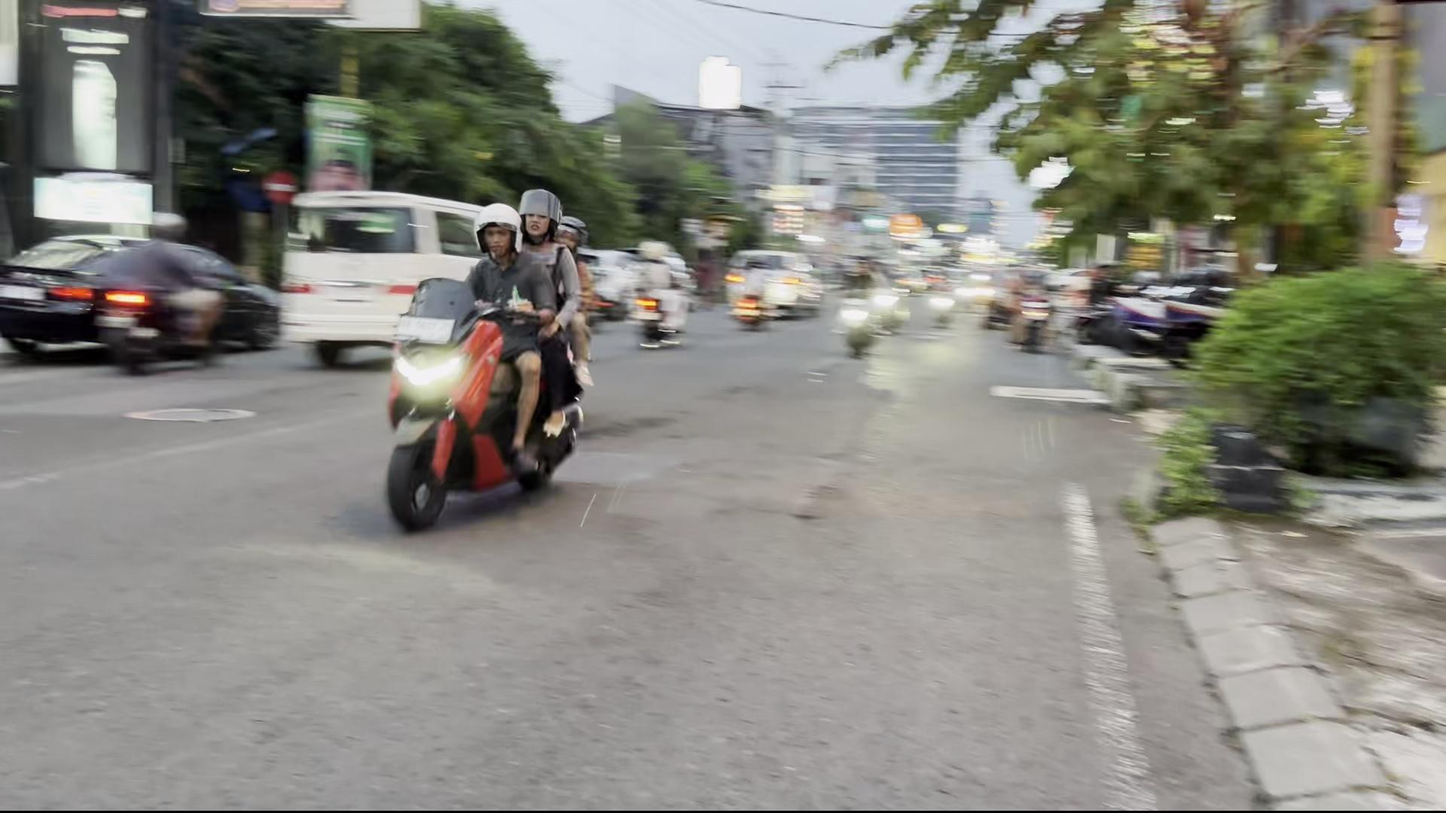helm: (471, 198, 526, 261), (515, 187, 566, 245)
riding: (380, 185, 590, 536)
